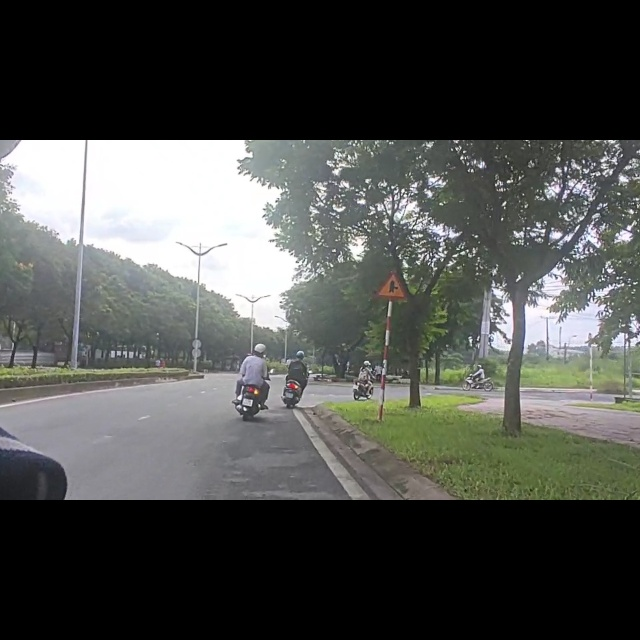Giao nhau với đường không ưu tiên: (377, 270, 406, 301)
